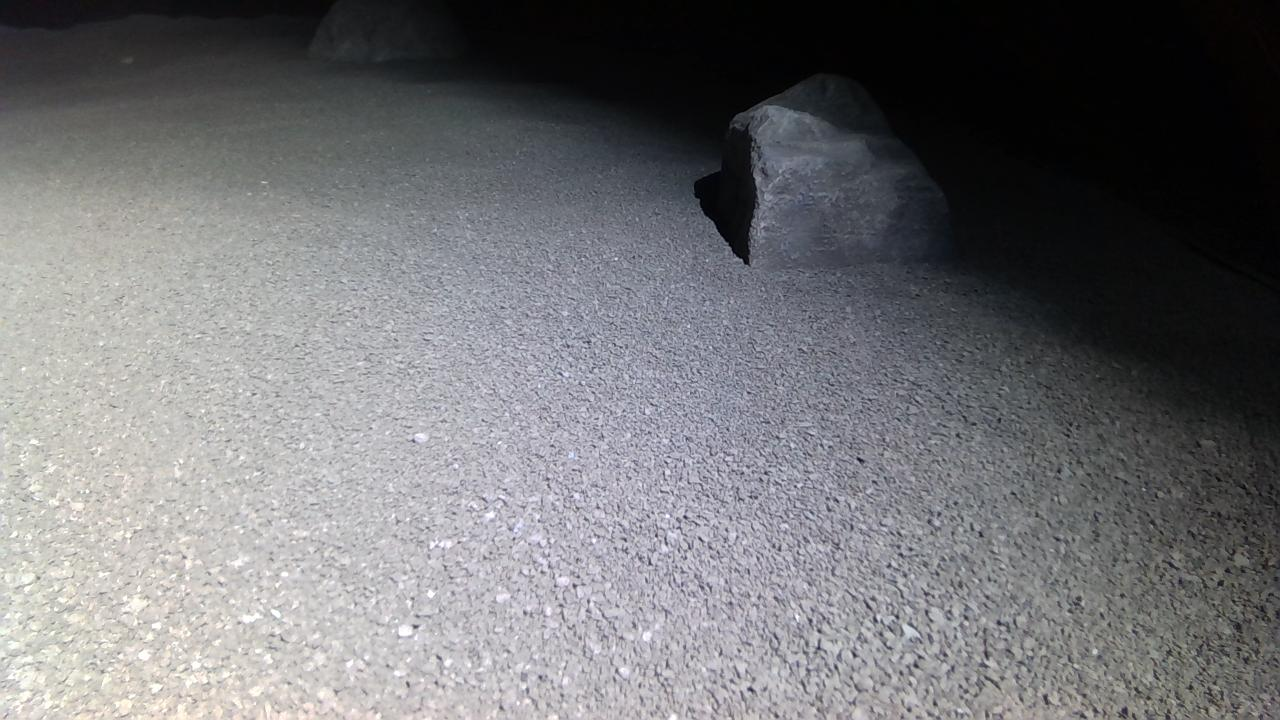rock: (717, 72, 955, 267), (308, 0, 467, 61)
